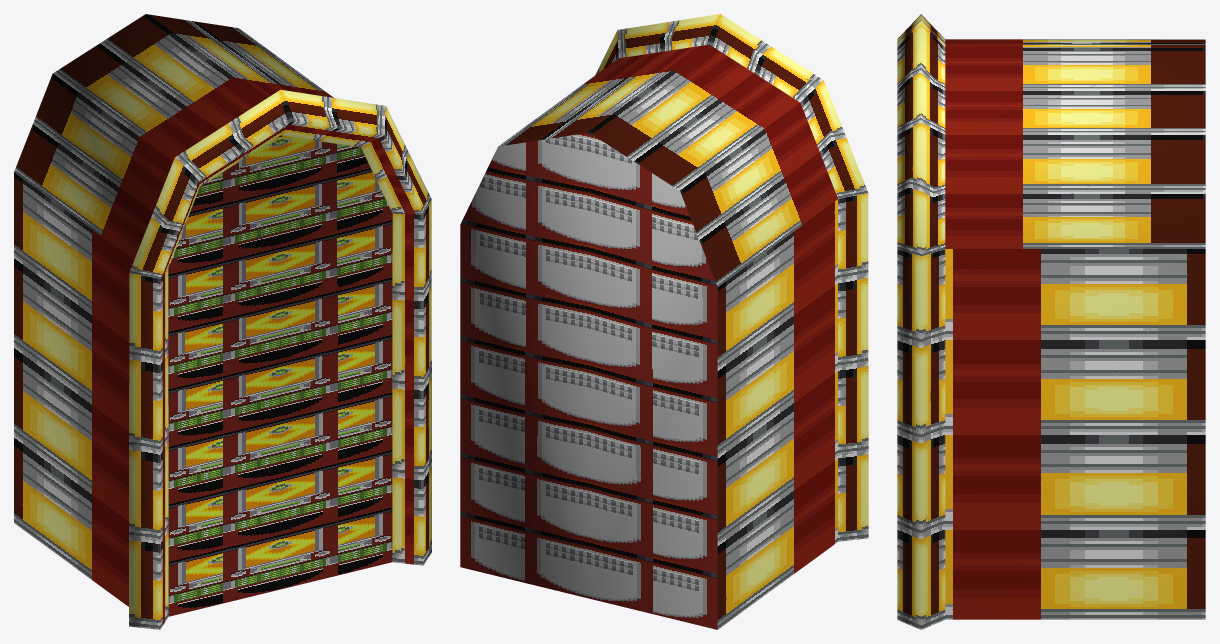
File: 3493IMEL01_10.gltf
The picture shows the model from 3 angles, left to right: view 1: azimuth 30°, elevation 25°; view 2: azimuth 150°, elevation 25°; view 3: azimuth 270°, elevation 25°; orthographic projection. The views are drawn at different scales.
Parts seen in each view (by area): view 1: 3493IMEL01_10; view 2: 3493IMEL01_10; view 3: 3493IMEL01_10.
Boxes of the visible parts, x1,y1,x2,y2 form: 3493IMEL01_10: [14, 14, 431, 629]; 3493IMEL01_10: [460, 14, 868, 629]; 3493IMEL01_10: [897, 14, 1205, 629].
Size of the model in its own units: 0.9775 by 1.54 by 0.8169.
Materials: 5 (5 with a texture image).
